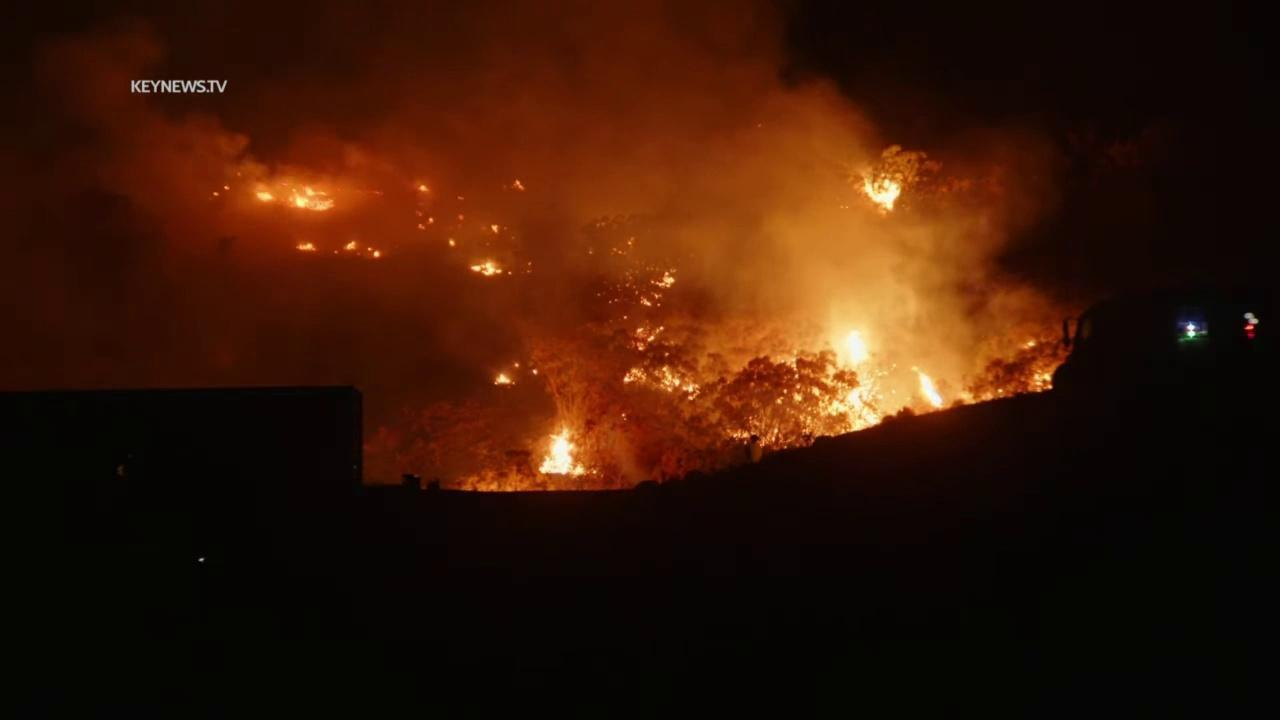fire: (773, 331, 888, 440), (537, 422, 598, 477), (623, 364, 702, 401), (254, 182, 338, 213), (862, 167, 905, 211), (909, 365, 944, 413), (634, 324, 666, 350), (470, 260, 506, 276), (1032, 368, 1054, 392), (493, 370, 516, 387), (656, 271, 677, 288), (295, 240, 317, 255), (731, 428, 750, 445), (509, 178, 526, 192), (367, 246, 383, 259), (639, 295, 652, 308), (344, 240, 358, 252), (418, 183, 431, 193), (446, 238, 458, 248), (490, 221, 500, 233), (1024, 339, 1037, 348), (417, 223, 426, 231), (428, 216, 436, 225), (532, 368, 540, 376), (458, 213, 464, 221), (212, 192, 220, 198), (223, 185, 231, 191), (457, 194, 465, 200), (514, 362, 520, 368)
smoke: (0, 0, 1099, 491)
